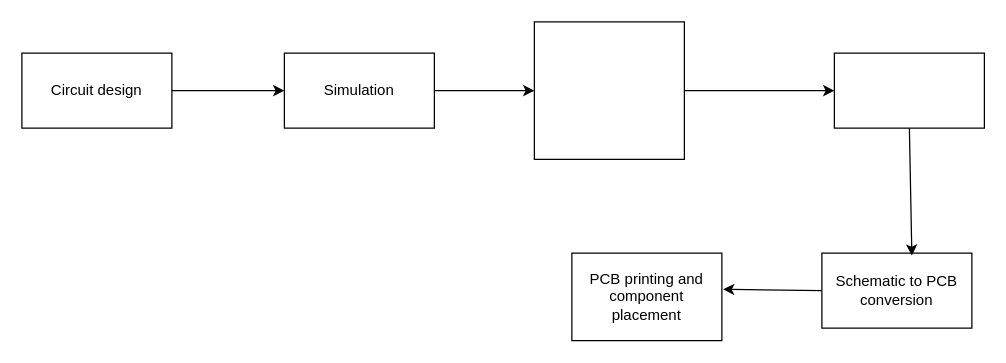
Image size: 1006x363. Some labels were removed from this diagram. Each missing label, with the centre of its shape:
Integration of circuits: (908,90)
Modification of circuits depending on simulation results: (608,90)
